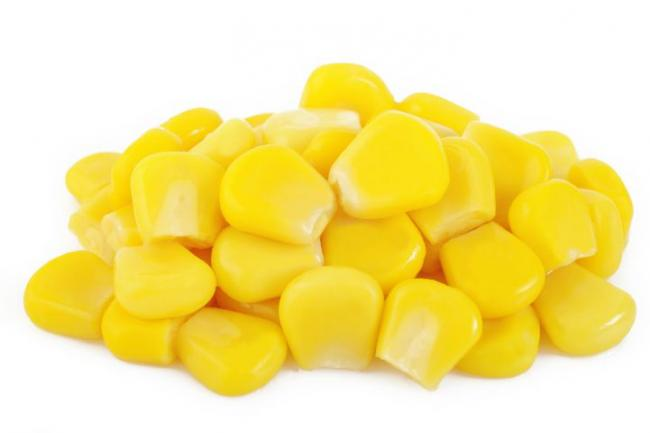corn: (329, 112, 453, 217), (219, 145, 339, 245), (377, 275, 482, 388), (279, 266, 384, 372), (175, 303, 287, 397), (439, 224, 546, 320), (131, 151, 222, 246), (112, 245, 217, 317)
